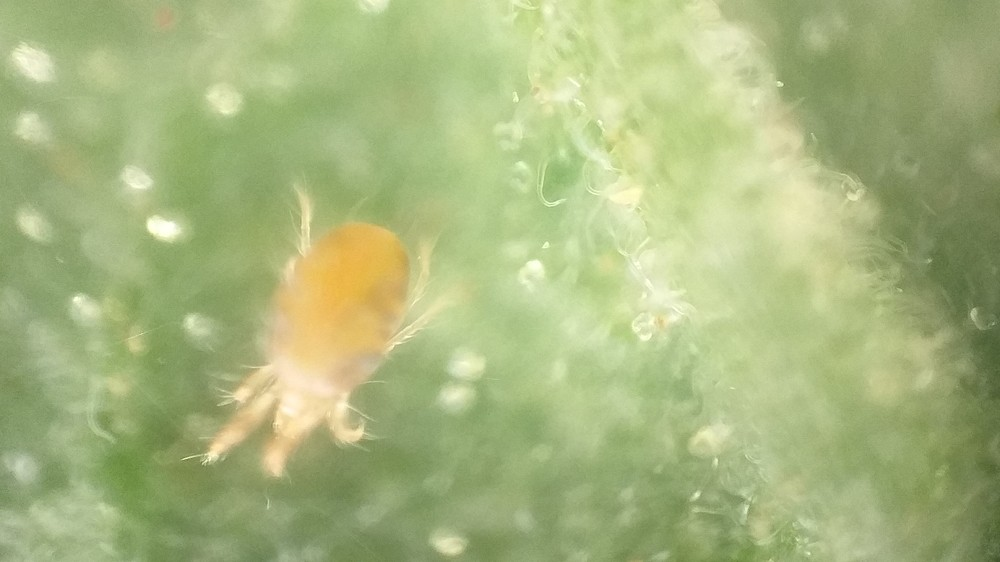Aracnido Rojo: (201, 172, 458, 499)
